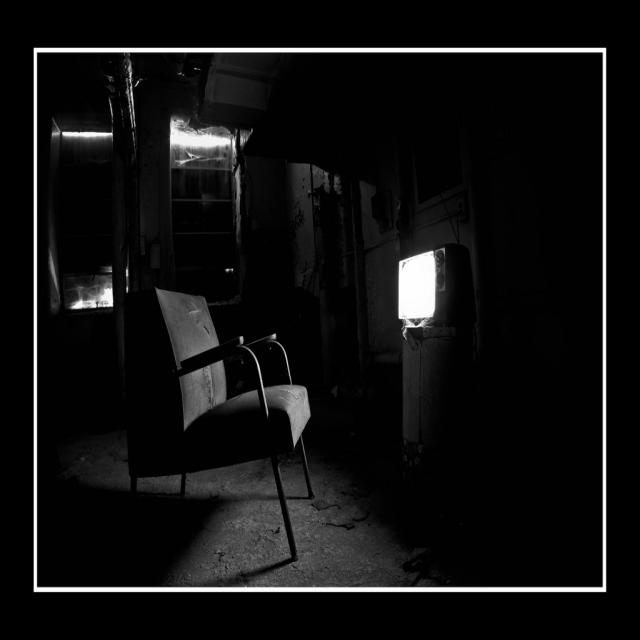Table: (377, 309, 485, 499)
chair: (112, 267, 340, 574)
